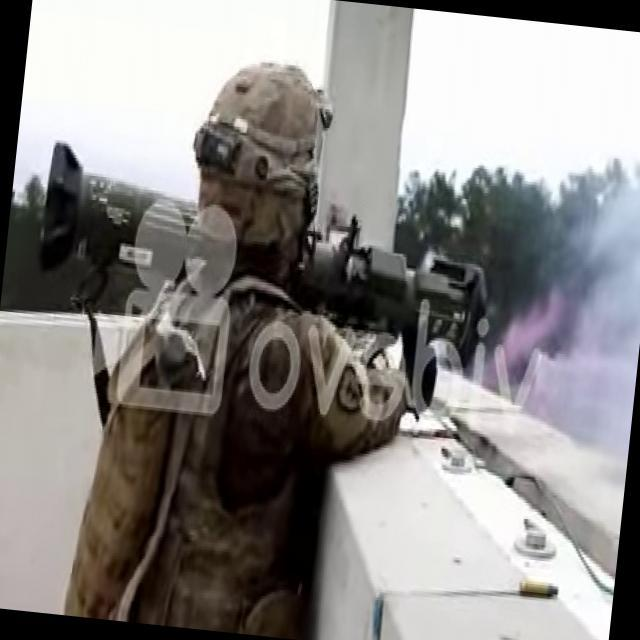rocket: (34, 140, 498, 363)
